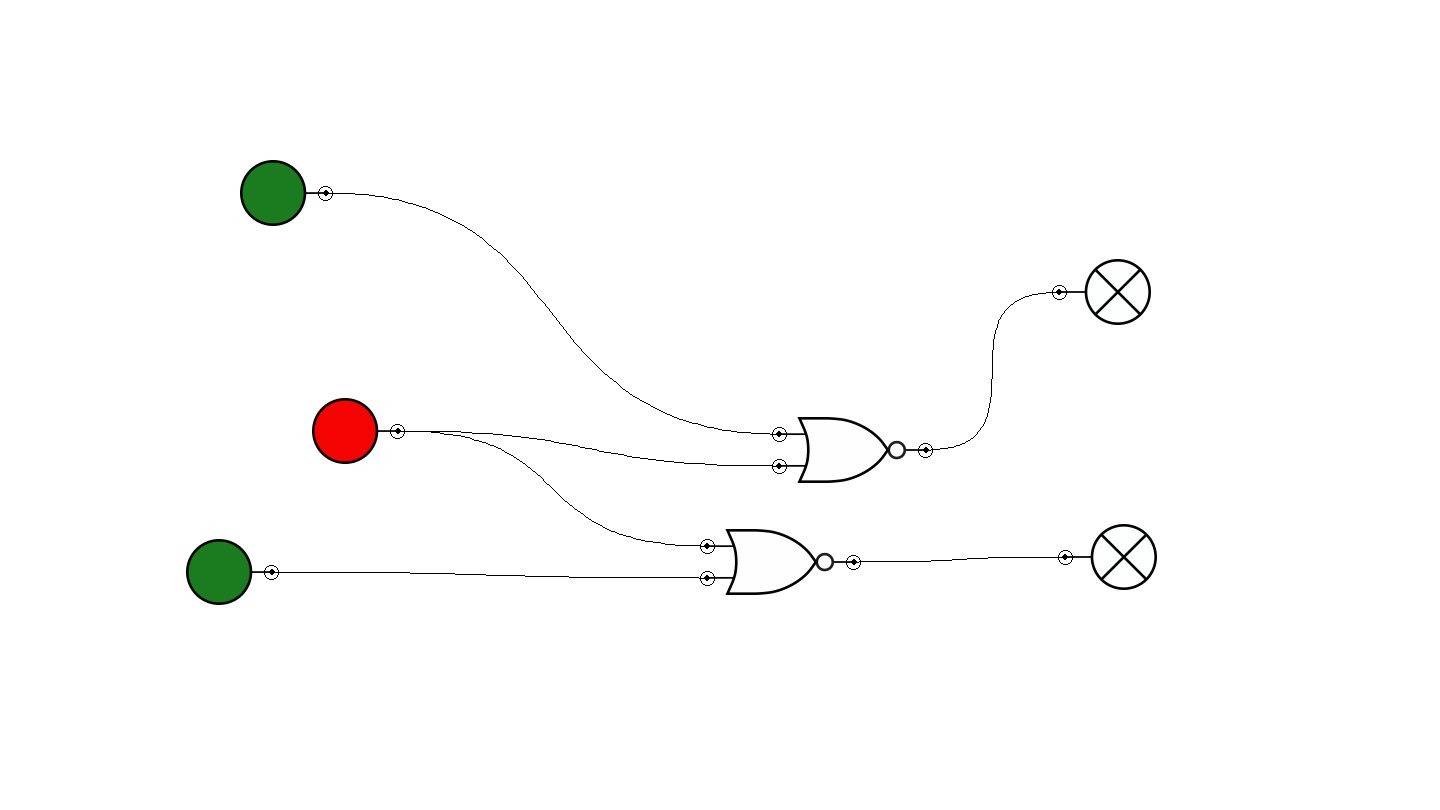bulb: (1058, 524, 1157, 590), (1052, 259, 1151, 325)
nor: (772, 417, 933, 483), (700, 529, 861, 595)
switch_False: (312, 398, 405, 464)
switch_True: (240, 160, 333, 226), (186, 539, 279, 605)
